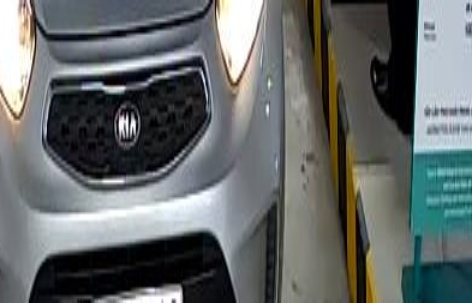plate: (90, 285, 180, 303)
